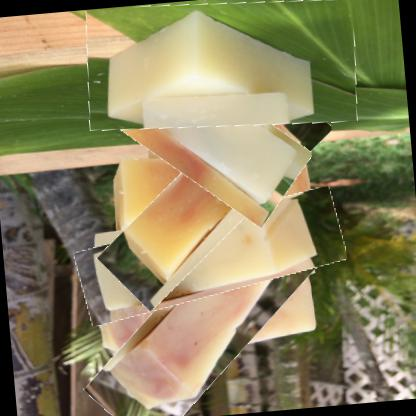soap: (68, 226, 345, 415), (82, 108, 347, 280), (81, 0, 362, 141), (99, 54, 313, 214), (73, 196, 348, 316)
